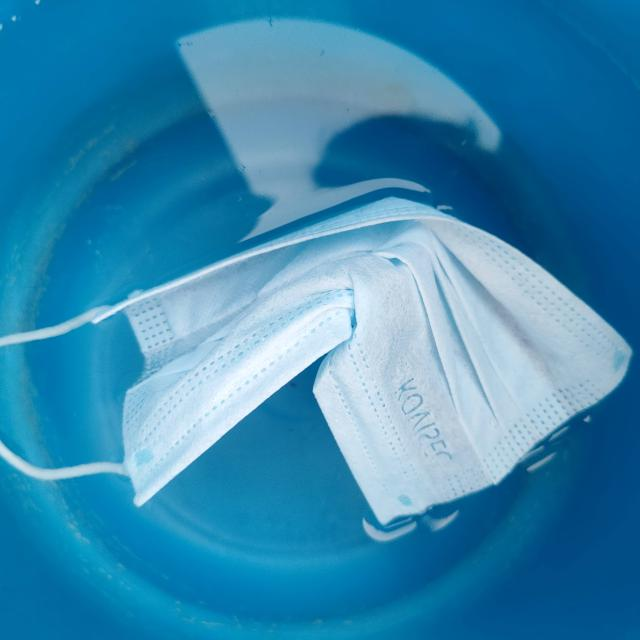mask: (0, 150, 640, 542)
